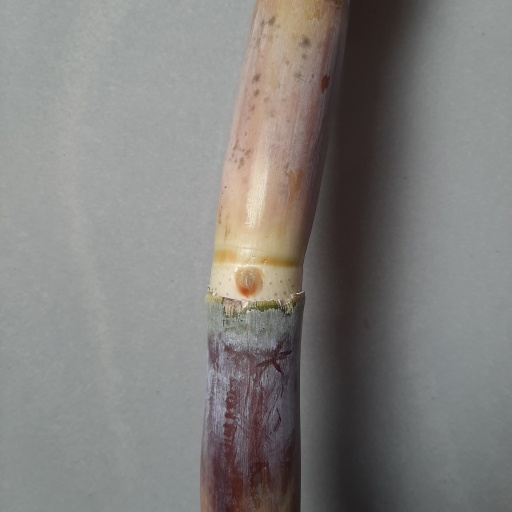Bud: (234, 266, 265, 297)
